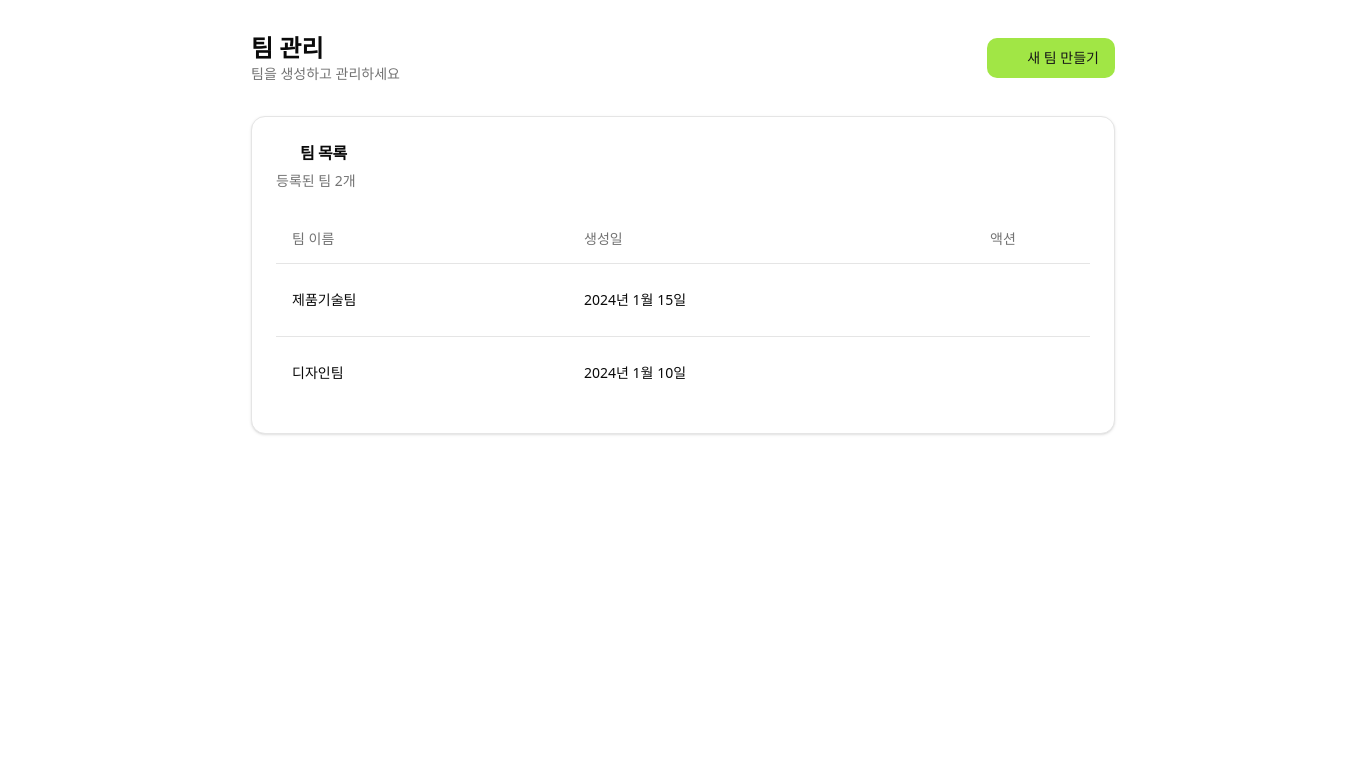
Test: TeamManagePage › Create Team Dialog › opens create dialog on button click
Click the button "새 팀 만들기". click: click(1051, 58)
box: [987,38,1115,78]
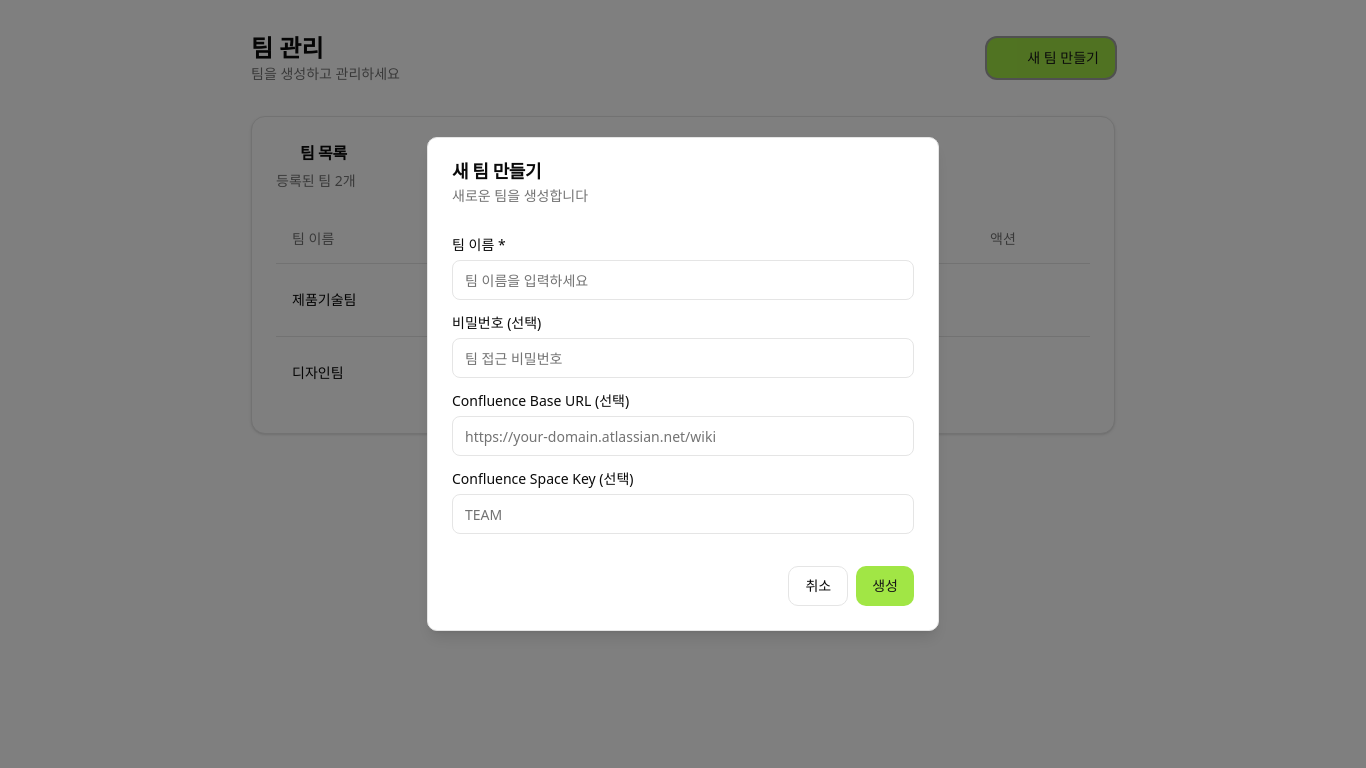
Expected: the dialog is shown, [427,137,939,631]
Expected: the text "새로운 팀을 생성합니다" is shown, [452,186,588,205]
